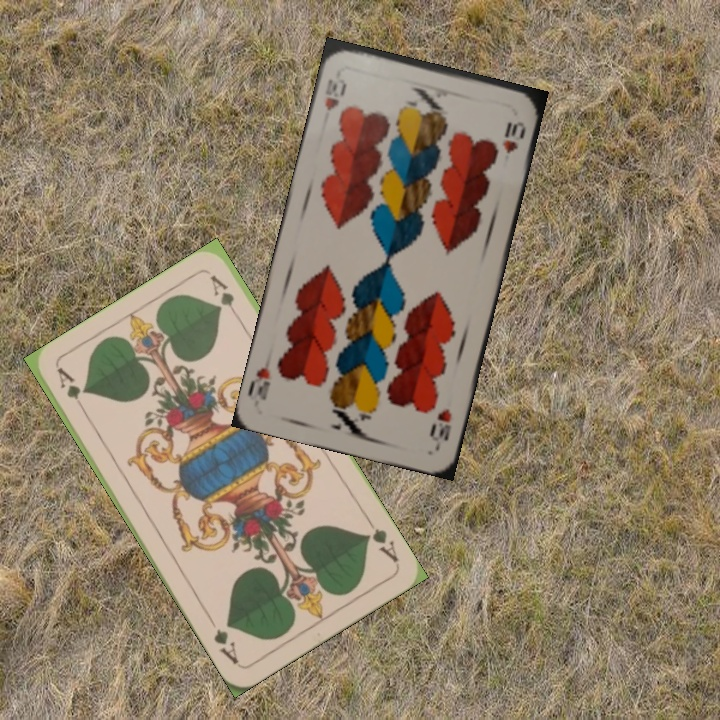GA: (361, 514, 401, 566), (53, 364, 90, 418)
H10: (320, 65, 349, 113), (427, 404, 454, 450)
